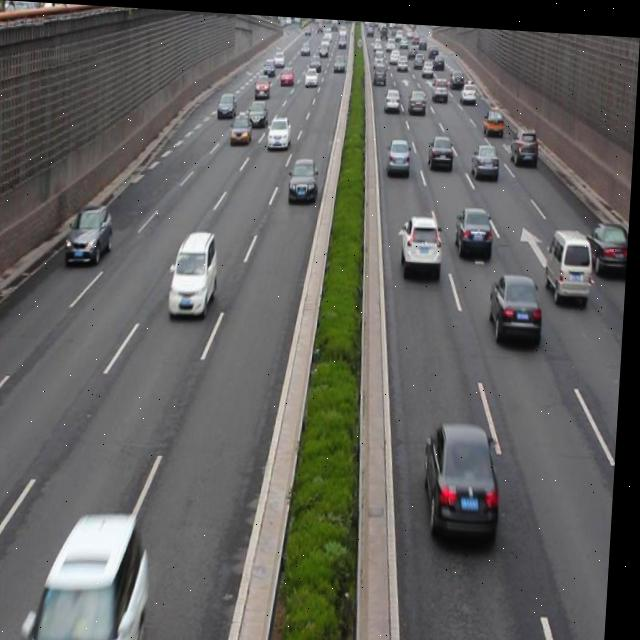car: (26, 508, 158, 640), (427, 412, 507, 535), (170, 225, 222, 314), (490, 263, 547, 336), (67, 202, 118, 268), (589, 209, 632, 269), (400, 209, 444, 267), (456, 198, 495, 257), (289, 152, 320, 202), (509, 118, 540, 160), (471, 135, 501, 176), (430, 127, 456, 169), (386, 129, 412, 170), (230, 108, 256, 146), (268, 112, 292, 147)
truck: (545, 217, 595, 297)
